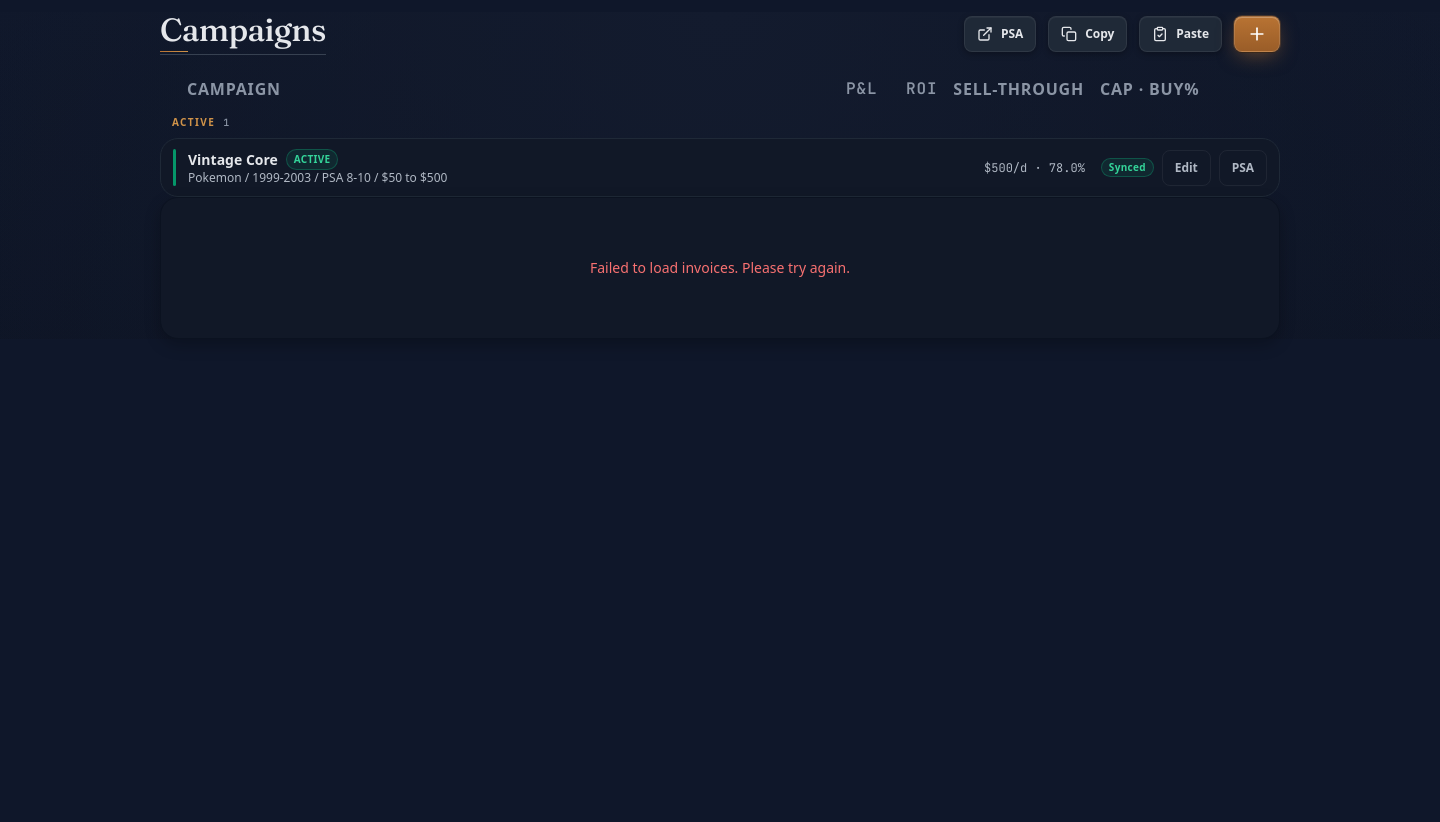
Test: skips the update when the pre-flight read fails
The width and height of the screenshot is (1440, 822).
Click the button with aria-label "import campaigns from clipboard".
click(1181, 34)  # box [1139,16,1222,52]
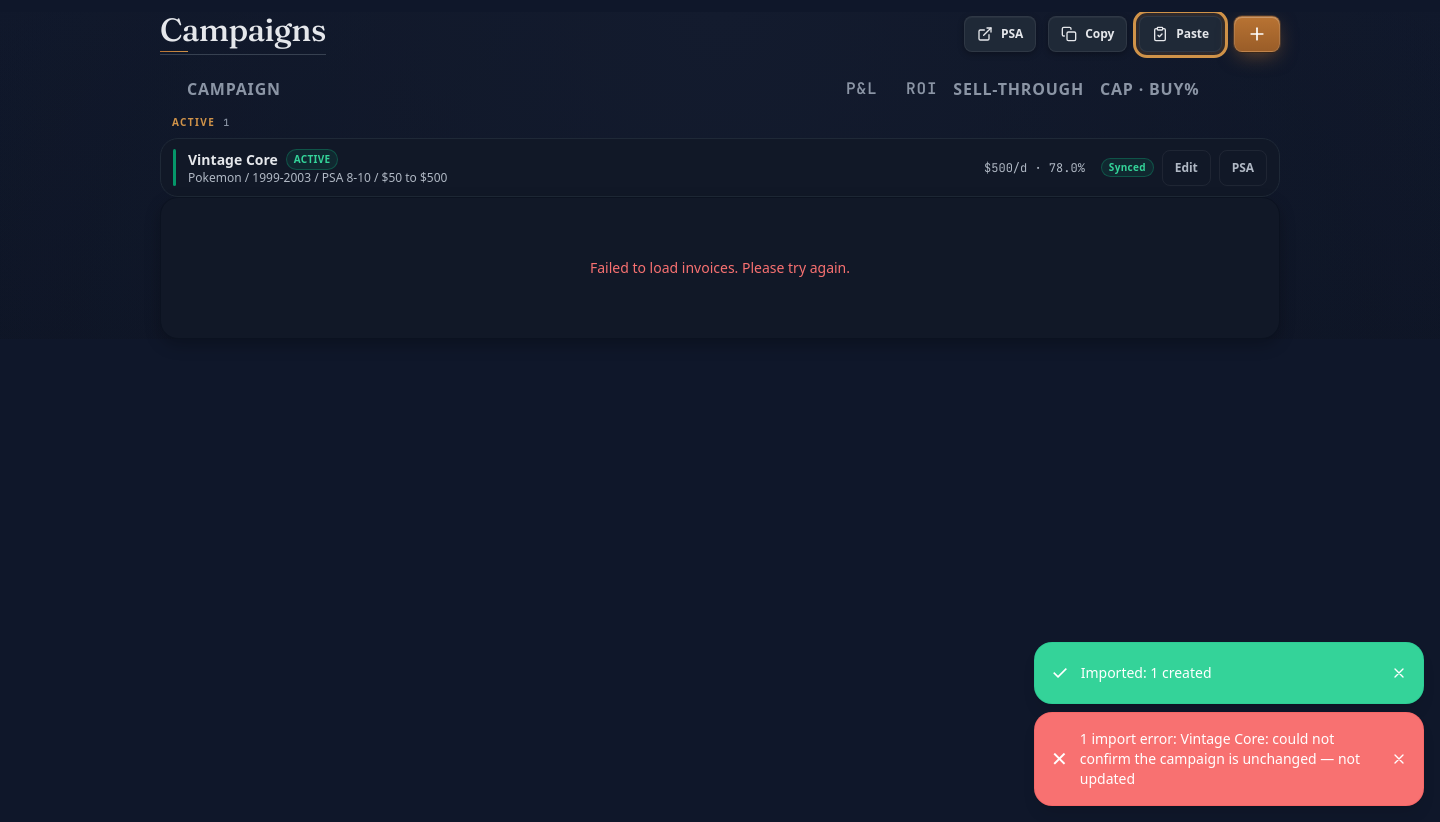
Expected: the text "could not confirm the campaign is unchanged" is shown, [1080,729,1360,788]
